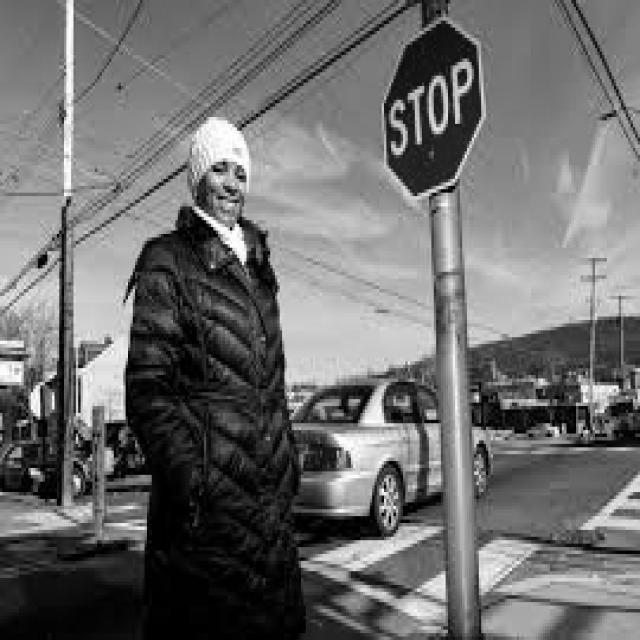stop sign: (386, 15, 485, 205)
